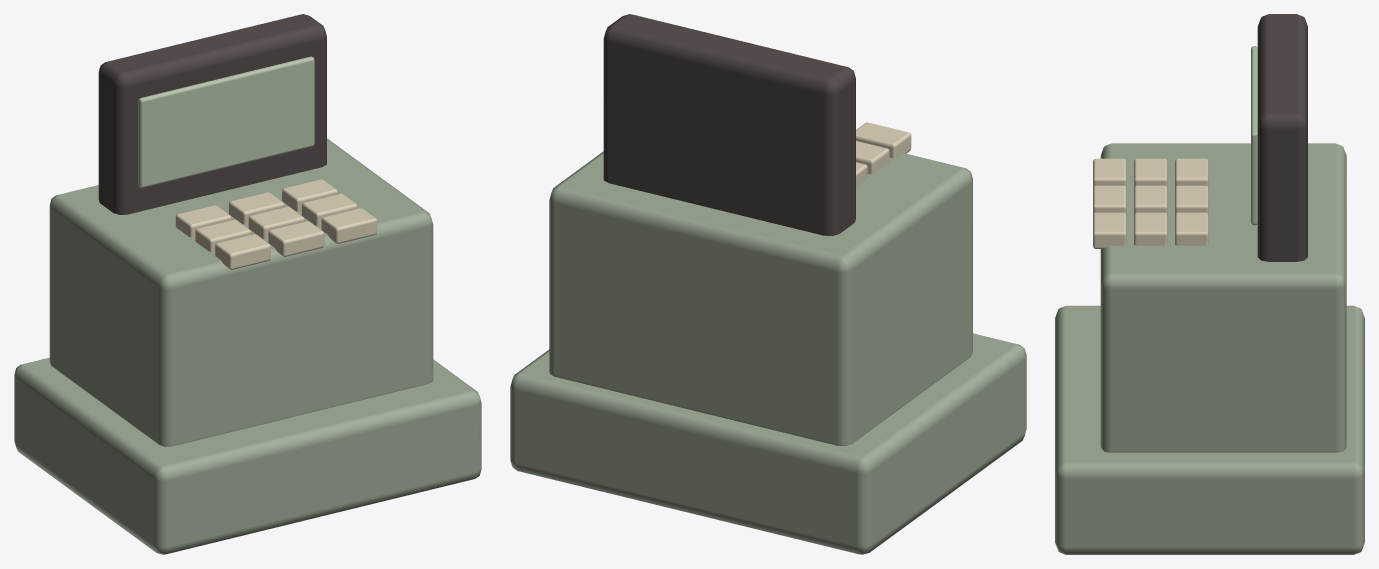
The model's file is till.glb.
3 renders of one model, left to right at view 1: azimuth 30°, elevation 25°; view 2: azimuth 150°, elevation 25°; view 3: azimuth 270°, elevation 25°, orthographic. The views are drawn at different scales.
Visible parts, largest first — view 1: register-body, cash-drawer, display-housing, readout, key-1-2, key-2-2, key-0-2, key-0-0, key-1-0, key-1-1, key-2-1, key-0-1 (+1 smaller); view 2: register-body, cash-drawer, display-housing, key-0-2, key-0-1; view 3: register-body, cash-drawer, display-housing, readout, key-2-2, key-2-0, key-2-1, key-1-0, key-1-1, key-1-2, key-0-0, key-0-1 (+1 smaller).
Part boxes in pixels (x1,y1,x2,y2): register-body: (49, 138, 433, 446); cash-drawer: (14, 357, 481, 554); display-housing: (98, 14, 326, 214); readout: (138, 56, 314, 187); key-1-2: (268, 221, 324, 256); key-2-2: (321, 208, 377, 243); key-0-2: (215, 234, 270, 269); key-0-0: (175, 205, 231, 237); key-1-0: (228, 192, 284, 224); key-1-1: (248, 206, 304, 239); key-2-1: (301, 193, 357, 226); key-0-1: (195, 219, 251, 252); register-body: (549, 151, 972, 446); cash-drawer: (510, 333, 1026, 554); display-housing: (603, 14, 855, 235); key-0-2: (856, 122, 911, 158); key-0-1: (856, 141, 889, 174); register-body: (1100, 143, 1346, 452); cash-drawer: (1055, 305, 1364, 554); display-housing: (1257, 14, 1307, 261); readout: (1251, 46, 1257, 225); key-2-2: (1093, 212, 1126, 248); key-2-0: (1175, 212, 1208, 245); key-2-1: (1134, 212, 1167, 245); key-1-0: (1175, 185, 1208, 214); key-1-1: (1134, 185, 1167, 214); key-1-2: (1093, 185, 1126, 214); key-0-0: (1175, 158, 1208, 187); key-0-1: (1134, 158, 1167, 187).
Bounding box in the file's own units: 0.43 × 0.5009 × 0.34.
